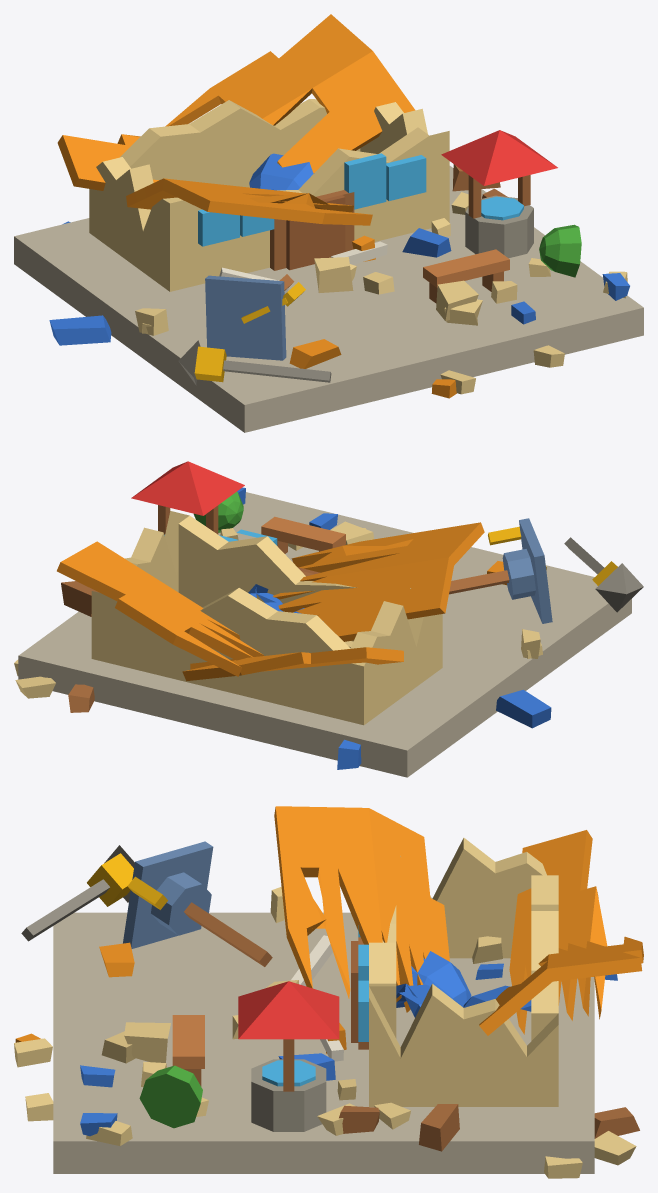
Rendered from university_t1_v3_dmg2.glb.
3 renders of one model, top to bottom at view 1: azimuth 30°, elevation 25°; view 2: azimuth 150°, elevation 25°; view 3: azimuth 270°, elevation 25°, orthographic. The views are drawn at different scales.
Visible parts, largest first — view 1: university_t1_v3_dmg2; view 2: university_t1_v3_dmg2; view 3: university_t1_v3_dmg2.
Part boxes in pixels (x1,y1,x2,y2): university_t1_v3_dmg2: [14, 14, 643, 432]; university_t1_v3_dmg2: [14, 461, 643, 777]; university_t1_v3_dmg2: [14, 806, 643, 1178].
Size of the model in its own units: 0.7148 by 0.2205 by 0.6985.
Materials: 1 (1 with a texture image).
